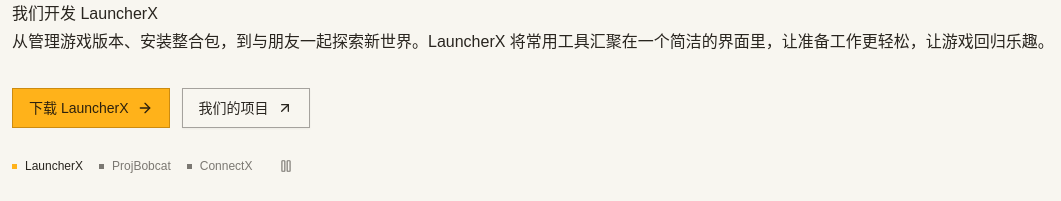
Test case: keeps automatic motion off for reduced-motion users while allowing selection
Check: the link "下载 LauncherX" is shown, box [12,88,170,128]
Step 1. Click the button with aria-label "查看 ConnectX 介绍" → (220, 166), box [187,148,252,184]
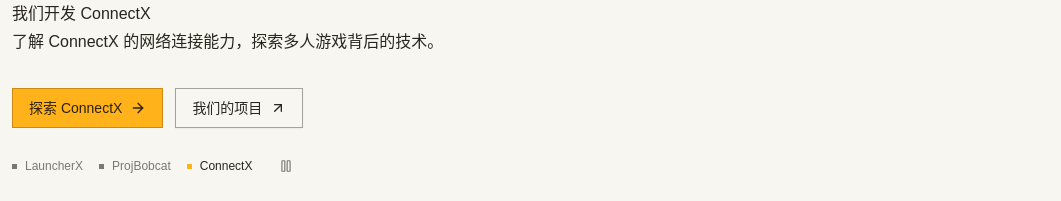
Check: the link "探索 ConnectX" is shown, box [12,88,163,128]
